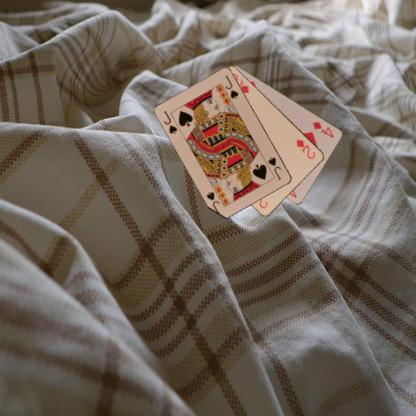2d: (294, 137, 317, 160)
4d: (310, 119, 335, 139)
Js: (161, 108, 179, 135), (266, 154, 282, 182)
